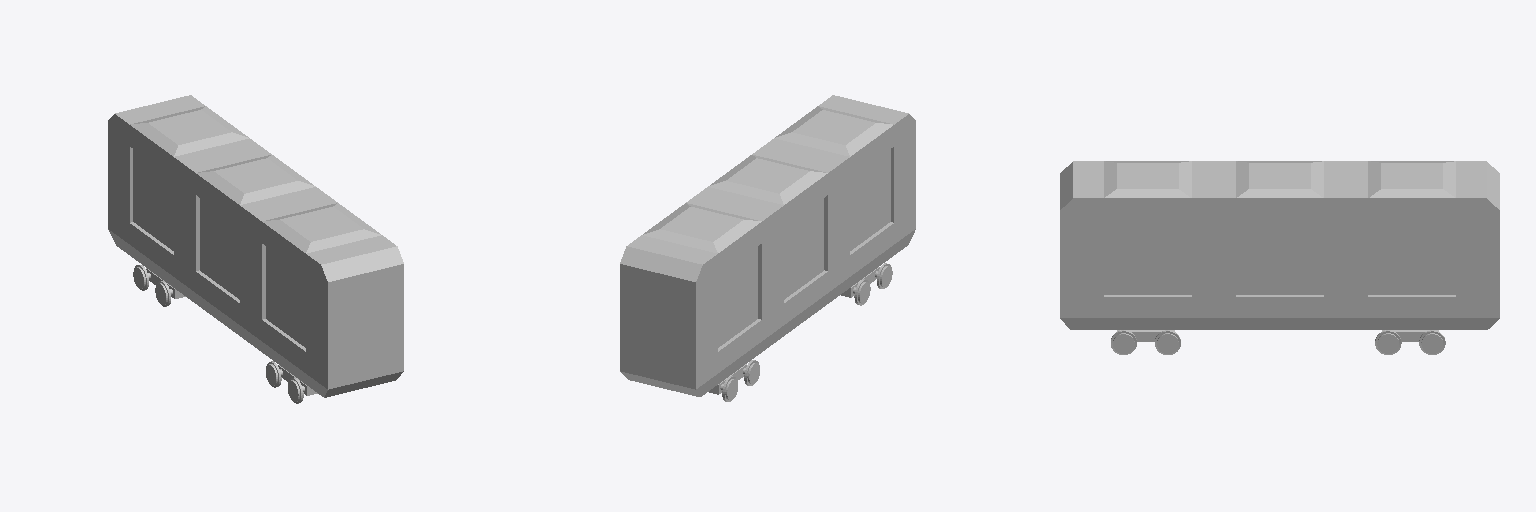
The model's file is Wagon.obj.
3 renders of one model, left to right at view 1: azimuth 30°, elevation 25°; view 2: azimuth 150°, elevation 25°; view 3: azimuth 270°, elevation 25°, orthographic.
Visible parts, largest first — view 1: Plane.007; view 2: Plane.007; view 3: Plane.007.
Part boxes in pixels (bbox=[...]): Plane.007: bbox=[108, 95, 403, 403]; Plane.007: bbox=[620, 95, 915, 401]; Plane.007: bbox=[1060, 161, 1499, 354].
Bounding box in the file's own units: 2.15 × 4.01 × 10.